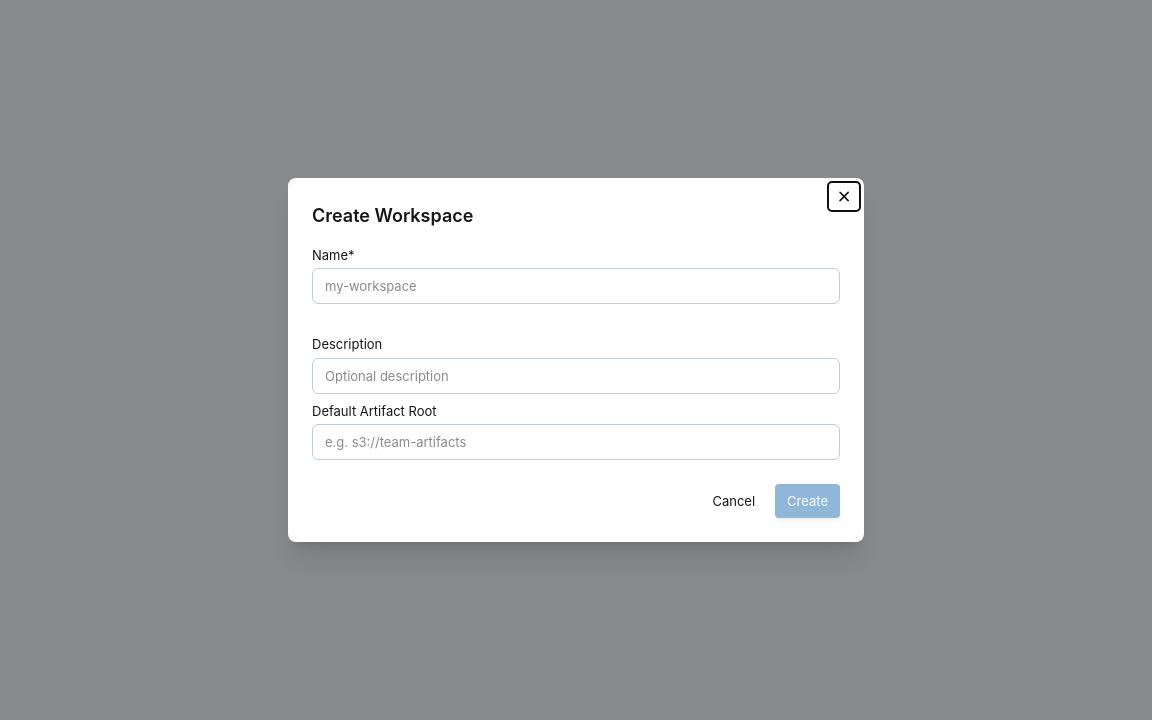
Test: CreateWorkspaceModal › validates name on input change
In the field labelled "Name*": x=576, y=286 [312,268,840,304], type "A"
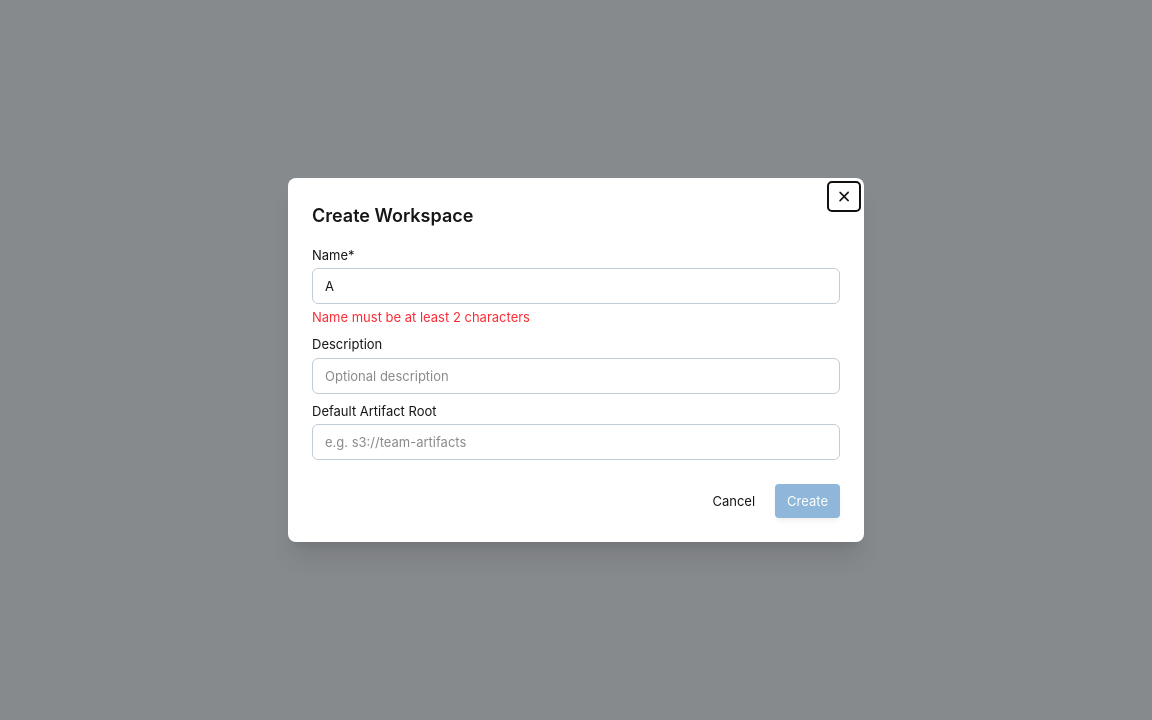
Expected: the text "Name must be at least 2 characters" is shown, [312,309,530,325]
